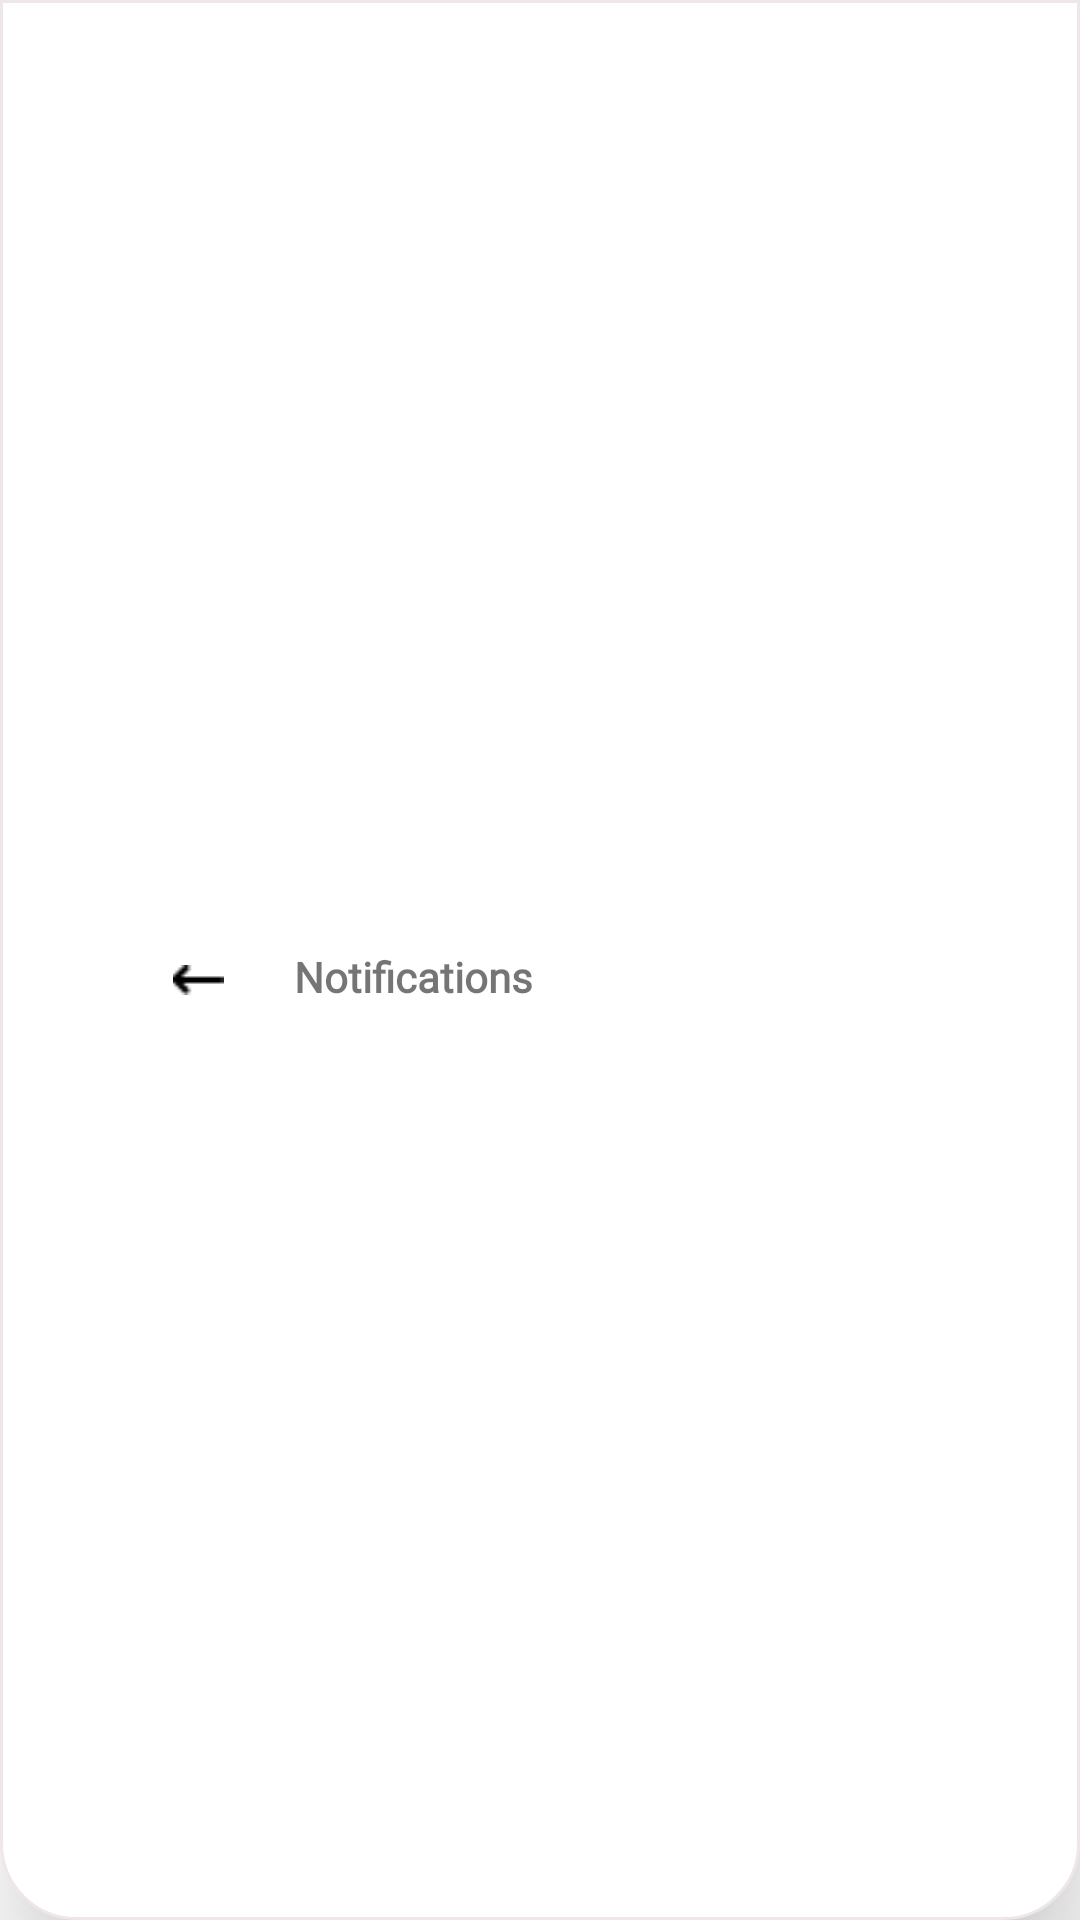

Icon click points for this 1080x1920 phone screenshot, format (x,y):
back arrow: (198,980)
